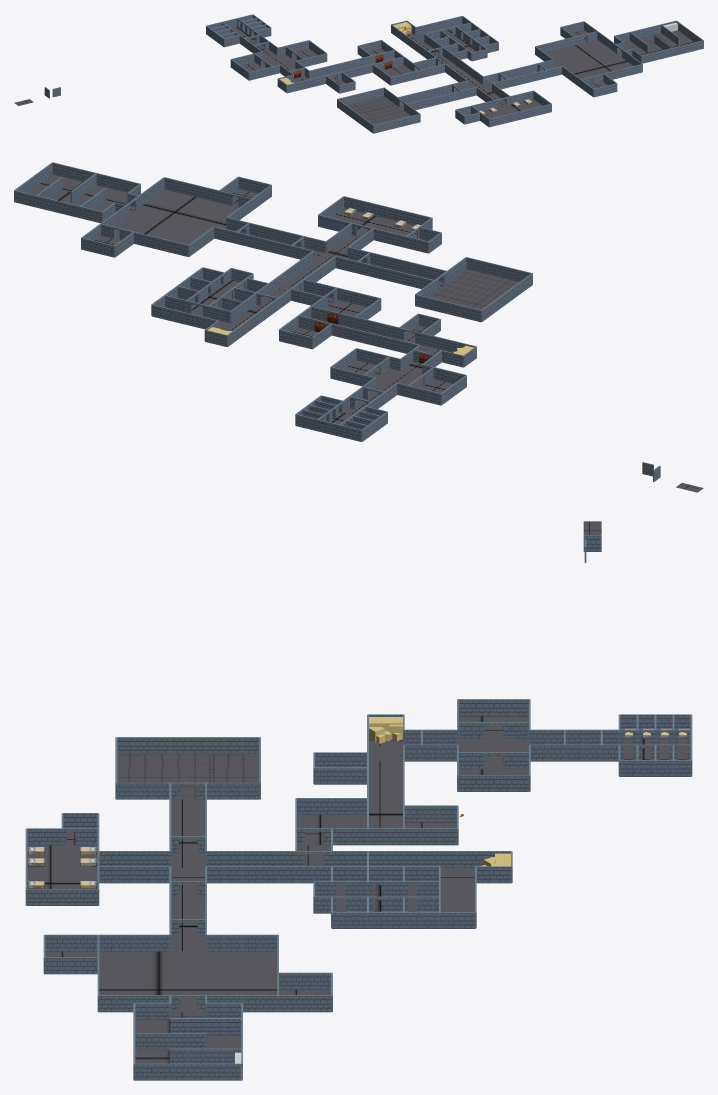
File: DungeonMapRevamp.fbx
3 views of the same model, one above another, from view 1: azimuth 30°, elevation 25°; view 2: azimuth 150°, elevation 25°; view 3: azimuth 270°, elevation 25° (orthographic). The views are drawn at different scales.
Visible parts, largest first — view 1: Floor.018, Floor.023, Floor.014, Floor.001, Floor.008, Floor.011, Floor.012, Floor.010, Floor.004; view 2: Floor.018, Floor.023, Floor.014, Floor.001, Floor.008, Floor.011, Floor.012; view 3: Floor.018, Floor.023, Floor.008, Floor.002, Floor.016, Floor.017, Floor.001, Floor.012, Floor.014, Floor.004.
Part boxes in pixels (box(x1,y1,x2,y2)): Floor.018: box(544, 39, 632, 84); Floor.023: box(347, 96, 410, 124); Floor.014: box(623, 30, 693, 55); Floor.001: box(261, 50, 309, 82); Floor.008: box(484, 99, 542, 118); Floor.011: box(454, 68, 505, 107); Floor.012: box(416, 24, 486, 53); Floor.010: box(406, 32, 450, 64); Floor.004: box(382, 65, 412, 76); Floor.018: box(114, 189, 239, 244); Floor.023: box(428, 269, 519, 309); Floor.014: box(27, 174, 127, 211); Floor.001: box(368, 347, 452, 400); Floor.008: box(331, 208, 416, 238); Floor.011: box(282, 235, 360, 289); Floor.012: box(165, 279, 255, 329); Floor.018: box(99, 951, 277, 1011); Floor.023: box(117, 754, 259, 799); Floor.008: box(27, 845, 97, 888); Floor.002: box(369, 761, 402, 828); Floor.016: box(171, 799, 205, 867); Floor.017: box(171, 884, 205, 951); Floor.001: box(369, 738, 528, 768); Floor.012: box(336, 883, 474, 911); Floor.014: box(135, 1020, 241, 1063); Floor.004: box(297, 815, 366, 844).
Size of the model in its own units: 73638 by 1000 by 37100.
6 materials, 5 textured.
